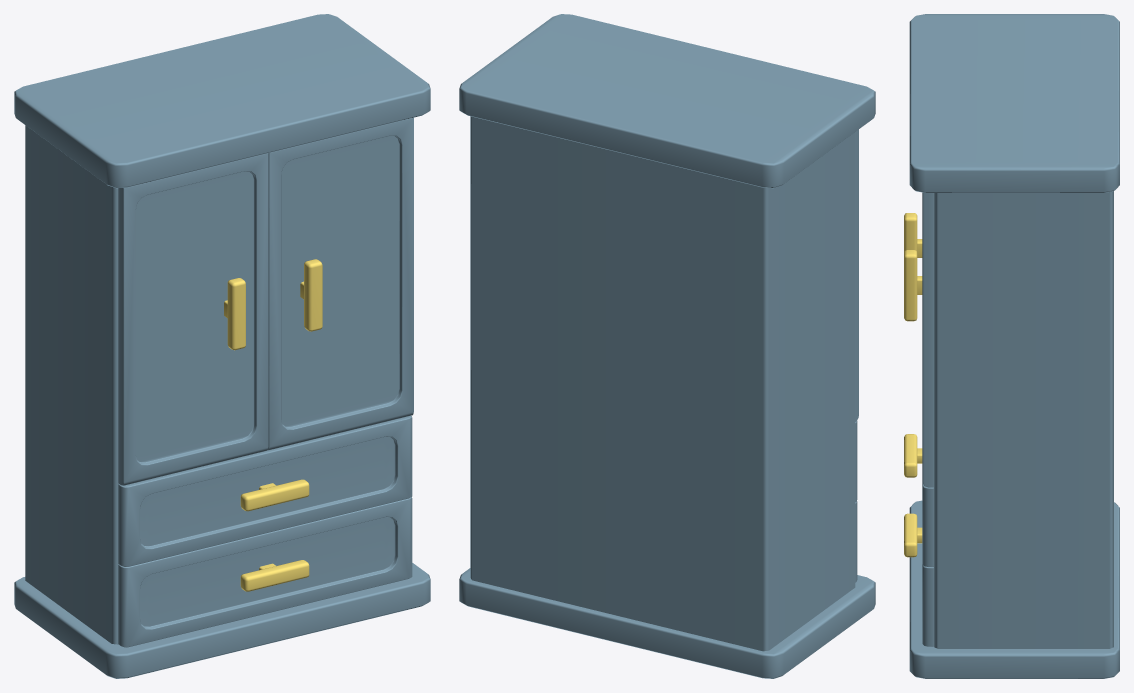
File: Closet.glb
The picture shows the model from 3 angles, left to right: view 1: azimuth 30°, elevation 25°; view 2: azimuth 150°, elevation 25°; view 3: azimuth 270°, elevation 25°; orthographic projection.
Visible parts, largest first — view 1: Cabinet_18; view 2: Cabinet_18; view 3: Cabinet_18.
Part boxes in pixels (x1,y1,x2,y2): Cabinet_18: [14, 14, 430, 678]; Cabinet_18: [459, 14, 875, 678]; Cabinet_18: [904, 14, 1119, 678].
Size of the model in its own units: 1.53 by 2.33 by 0.8927.
1 material, 1 textured.
